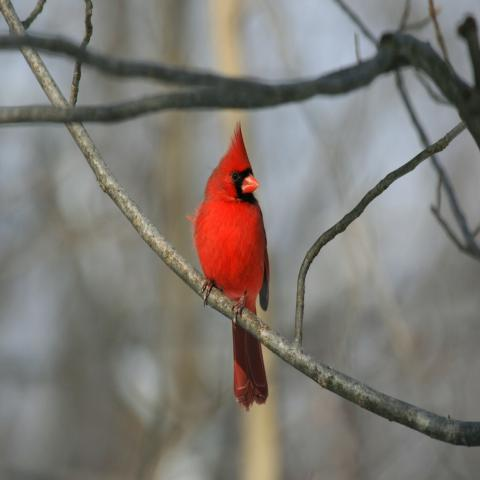bird: (187, 118, 273, 412)
